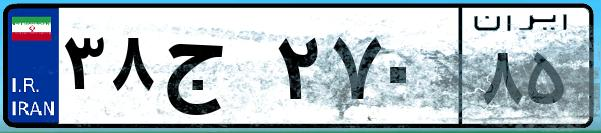0: (385, 28, 445, 110)
2: (270, 28, 330, 110)
3: (57, 26, 110, 100)
5: (525, 38, 570, 115)
7: (330, 28, 385, 110)
8: (475, 38, 525, 113), (110, 28, 158, 98)
ج: (158, 20, 270, 120)
